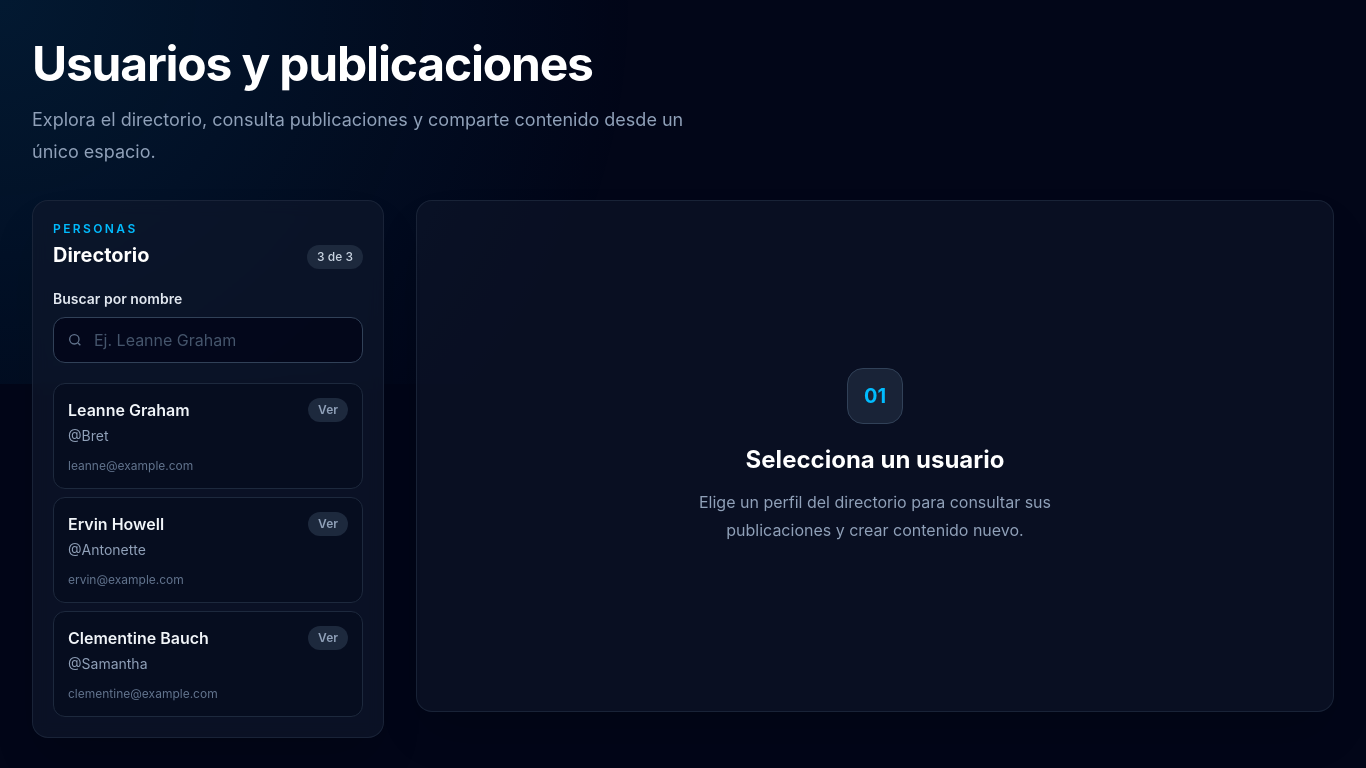
interacciones de usuarios y publicaciones › muestra solo las publicaciones del usuario seleccionado
The width and height of the screenshot is (1366, 768).
Click the button "Leanne Graham @Bret Ver". click: x=129, y=410
box: [68,398,348,446]
(page scrolled)
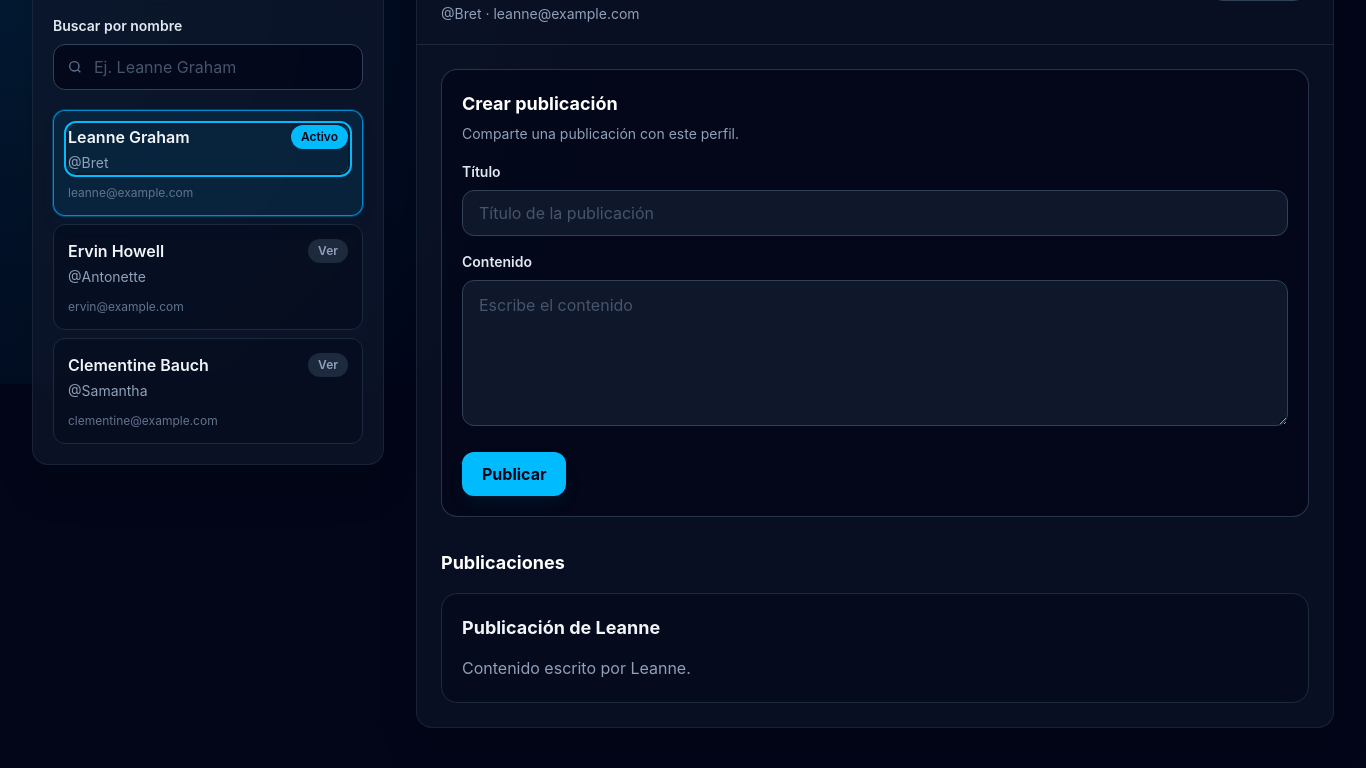
Expected: the heading "Publicación de Leanne" is shown, [462,614,660,642]
